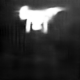plane: (17, 3, 64, 33)
